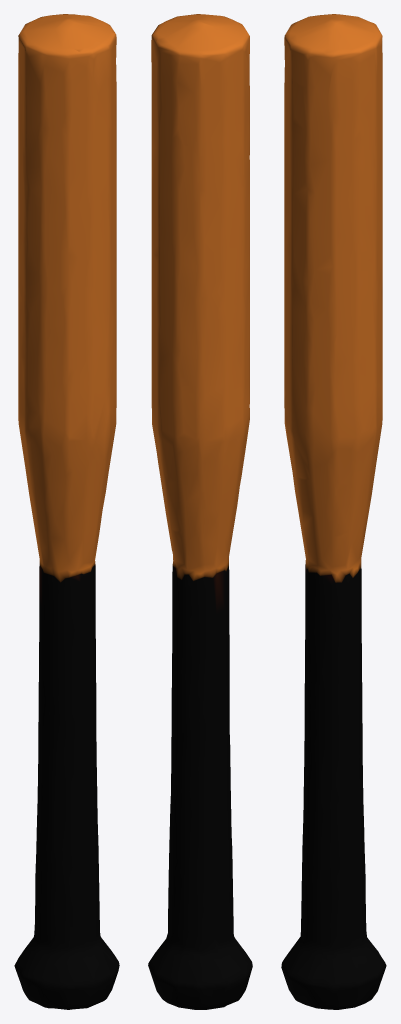
Rendered from gen3d-baseball-bat-lod0.glb.
3 renders of one model, left to right at view 1: azimuth 90°, elevation 25°; view 2: azimuth 210°, elevation 25°; view 3: azimuth 270°, elevation 25°, orthographic.
Visible parts, largest first — view 1: part_0; view 2: part_0; view 3: part_0.
Part boxes in pixels (<box>): part_0: <box>14,14,119,1009</box>; part_0: <box>148,14,252,1009</box>; part_0: <box>281,14,386,1009</box>.
Bounding box in the file's own units: 0.097 × 1 × 0.097.
